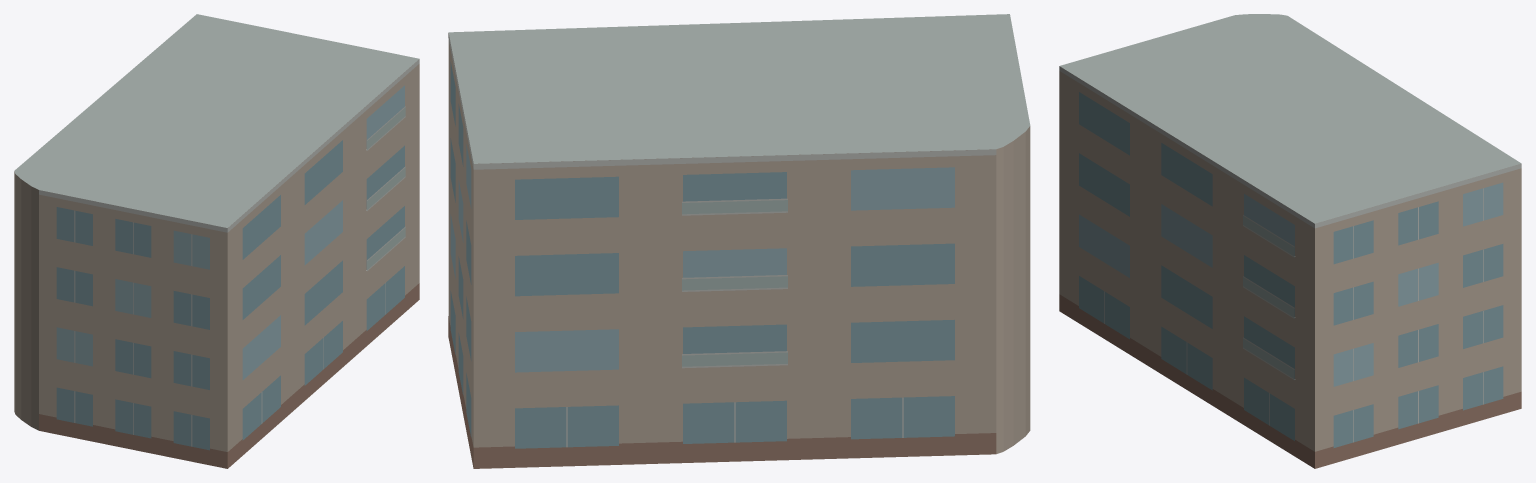
The model's file is survey-upis-32770166.glb.
3 renders of one model, left to right at view 1: azimuth 30°, elevation 25°; view 2: azimuth 150°, elevation 25°; view 3: azimuth 270°, elevation 25°, orthographic. The views are drawn at different scales.
Visible parts, largest first — view 1: survey-upis-32770166.tmp; view 2: survey-upis-32770166.tmp; view 3: survey-upis-32770166.tmp.
Boxes of the visible parts, box(x1,y1,x2,y2) form: survey-upis-32770166.tmp: box(14, 14, 419, 468); survey-upis-32770166.tmp: box(448, 14, 1030, 468); survey-upis-32770166.tmp: box(1059, 14, 1521, 468).
Size of the model in its own units: 23.31 by 12.7 by 21.72.
